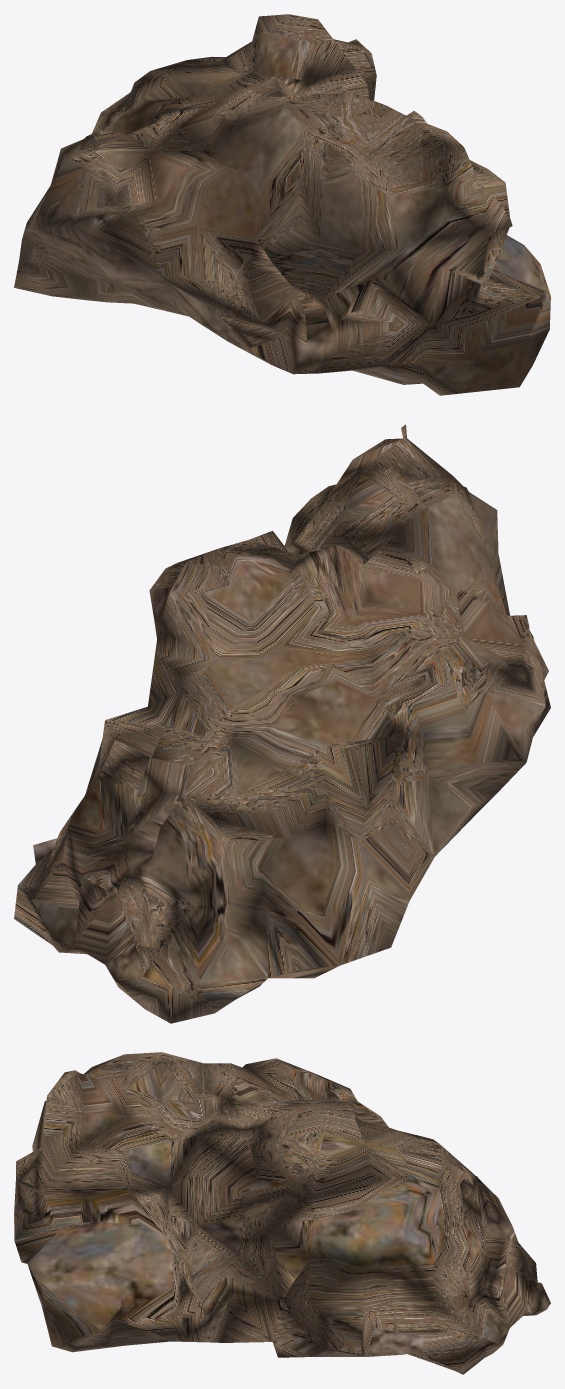
The model's file is boulder_01_lod1.glb.
The picture shows the model from 3 angles, top to bottom: view 1: azimuth 30°, elevation 25°; view 2: azimuth 150°, elevation 25°; view 3: azimuth 270°, elevation 25°; orthographic projection. The views are drawn at different scales.
Parts seen in each view (by area): view 1: boulder_01; view 2: boulder_01; view 3: boulder_01.
Boxes of the visible parts, bbox=[...] form: boulder_01: bbox=[14, 14, 550, 395]; boulder_01: bbox=[14, 424, 550, 1023]; boulder_01: bbox=[14, 1052, 550, 1374].
Size of the model in its own units: 1.27 by 0.9843 by 1.79.
1 material, 1 textured.
